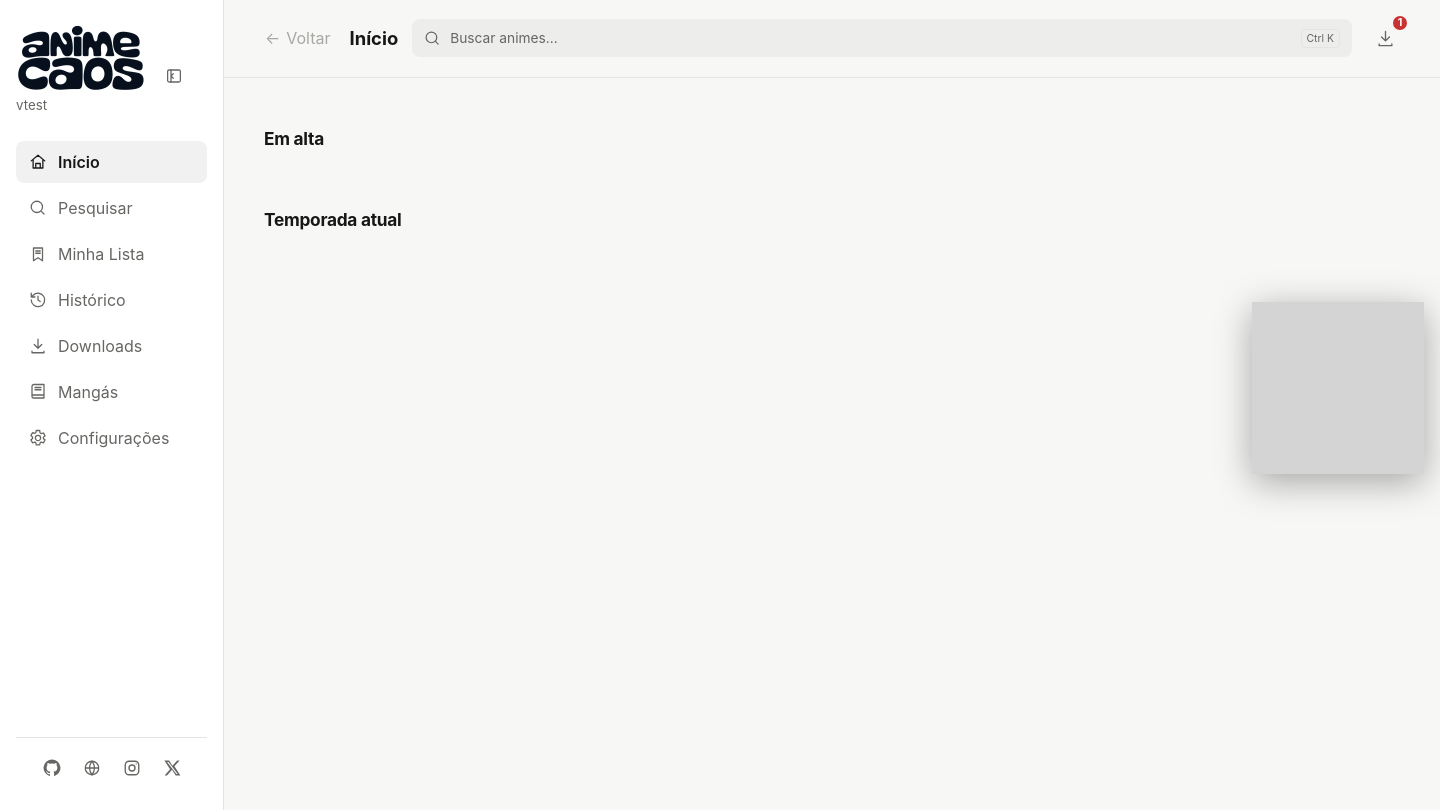
Test case: interface funcional › abre os downloads em cards com progresso e ação para o anime
Click the button named "Downloads, 1 ativos" at (1385,38), box [1366,19,1404,57]
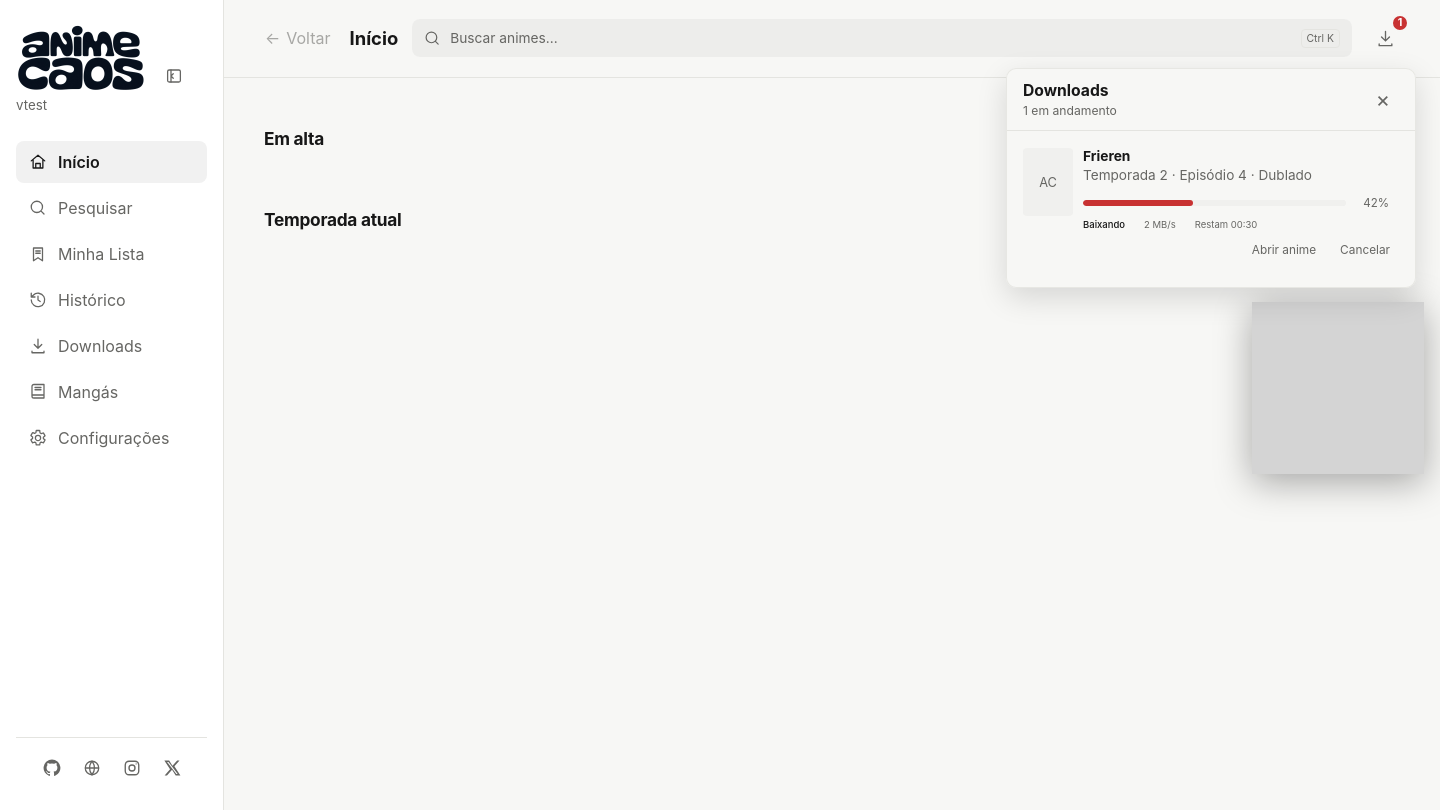
Check: the text "Frieren" is shown, box [1083,148,1130,164]
Check: the text "Temporada 2 · Episódio 4 · Dublado" is shown, box [1083,167,1312,183]
Check: the text "42%" is shown, box [1363,196,1389,210]
